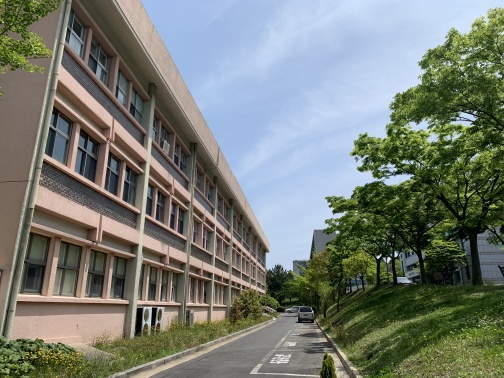College Of Education: (11, 15, 270, 360)
